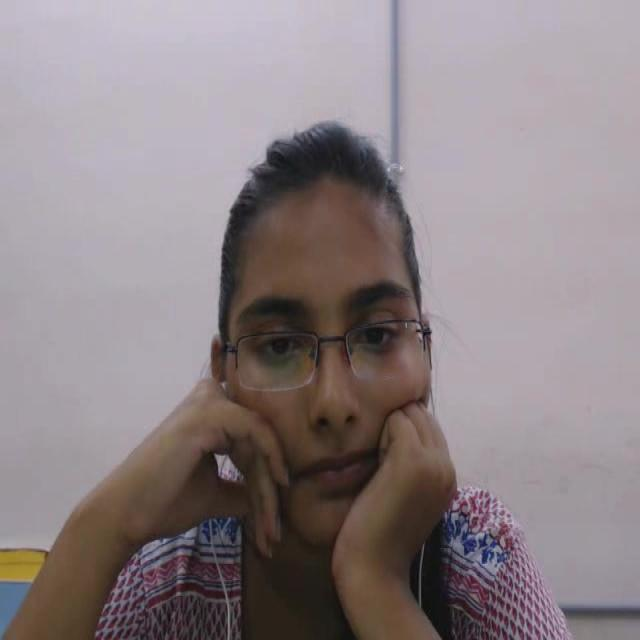Bored: (163, 95, 484, 574)
